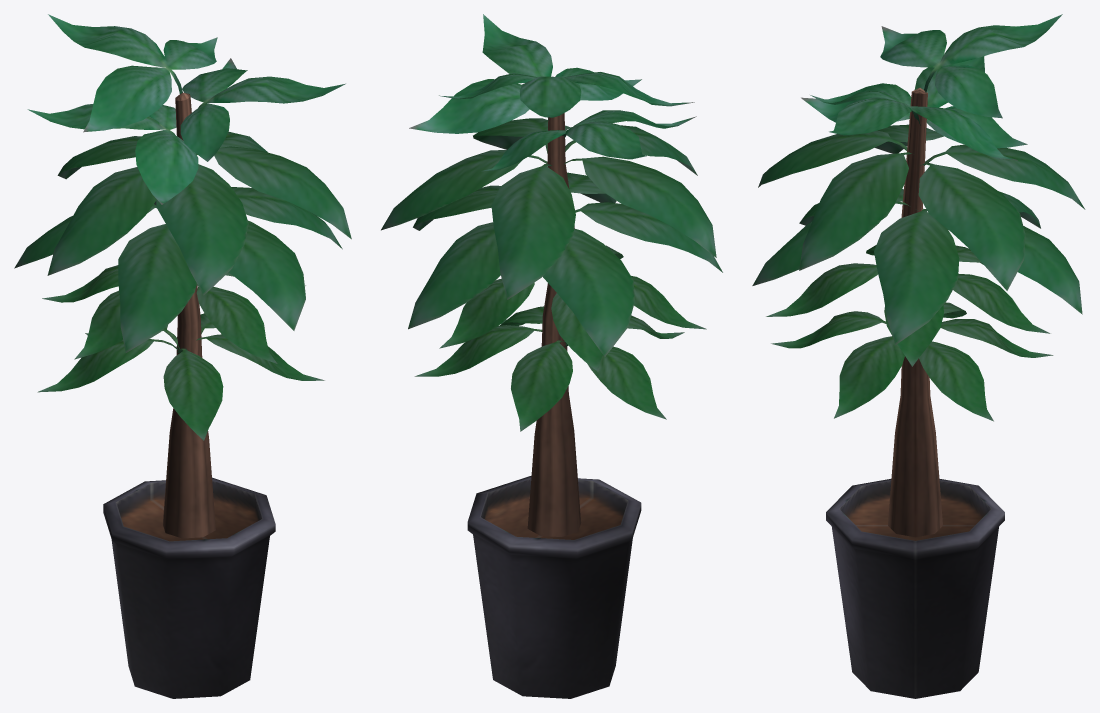
Rendered from XiuXiShi_01_penzai_01.FBX.
3 renders of one model, left to right at view 1: azimuth 30°, elevation 25°; view 2: azimuth 150°, elevation 25°; view 3: azimuth 270°, elevation 25°, orthographic.
Parts seen in each view (by area): view 1: penzai_01; view 2: penzai_01; view 3: penzai_01.
Boxes of the visible parts, bbox=[...] form: penzai_01: bbox=[14, 14, 351, 698]; penzai_01: bbox=[381, 14, 722, 698]; penzai_01: bbox=[752, 14, 1085, 698].
Bounding box in the file's own units: 359 × 724 × 350.
